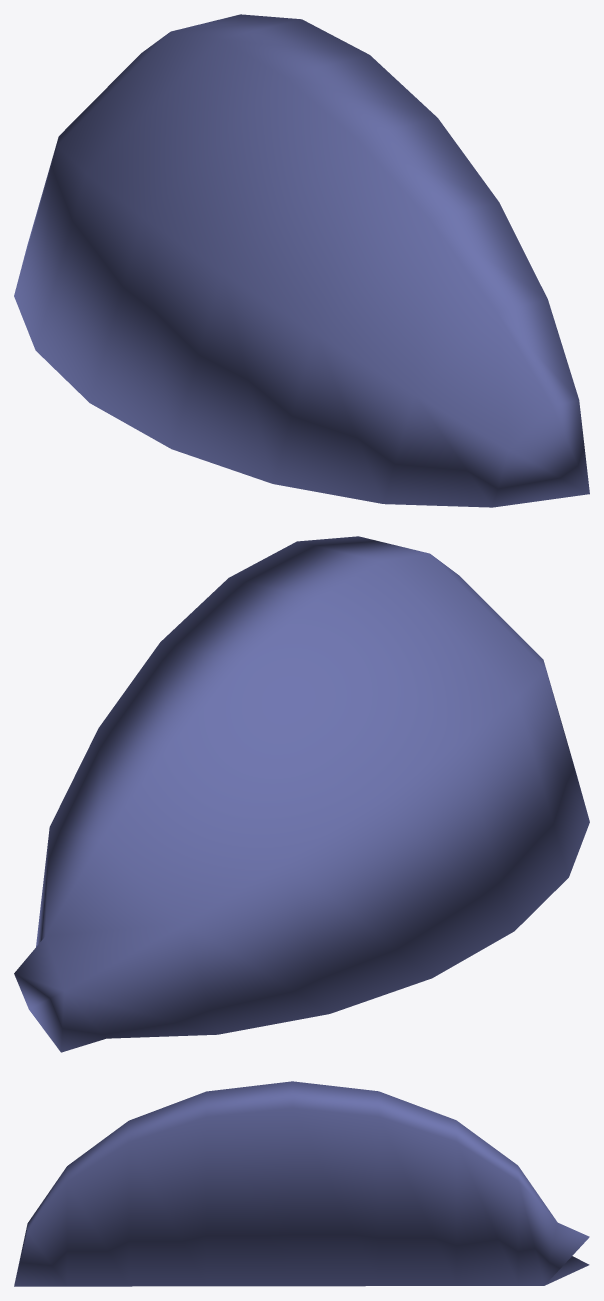
Rendered from Ingredient_Chicken_Quarter.fbx.
3 views of the same model, one above another, from view 1: azimuth 30°, elevation 25°; view 2: azimuth 150°, elevation 25°; view 3: azimuth 270°, elevation 25° (orthographic). The views are drawn at different scales.
Parts seen in each view (by area): view 1: Chicken_Quarter; view 2: Chicken_Quarter; view 3: Chicken_Quarter.
Boxes of the visible parts, <box> form: Chicken_Quarter: <box>14,14,589,507</box>; Chicken_Quarter: <box>14,536,589,1052</box>; Chicken_Quarter: <box>14,1081,589,1286</box>.
Bounding box in the file's own units: 14.21 × 13.45 × 39.47.
